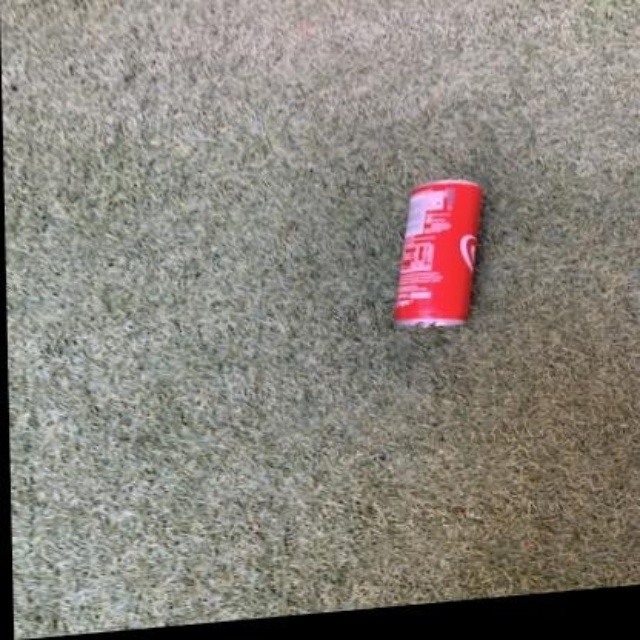trash: (394, 180, 482, 326)
